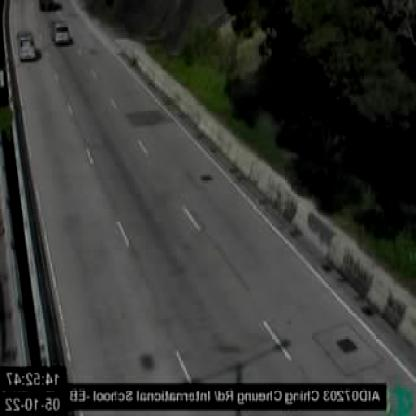Car: (18, 26, 40, 59), (54, 19, 76, 47)
